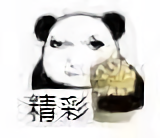dragon: (50, 34, 105, 80)
